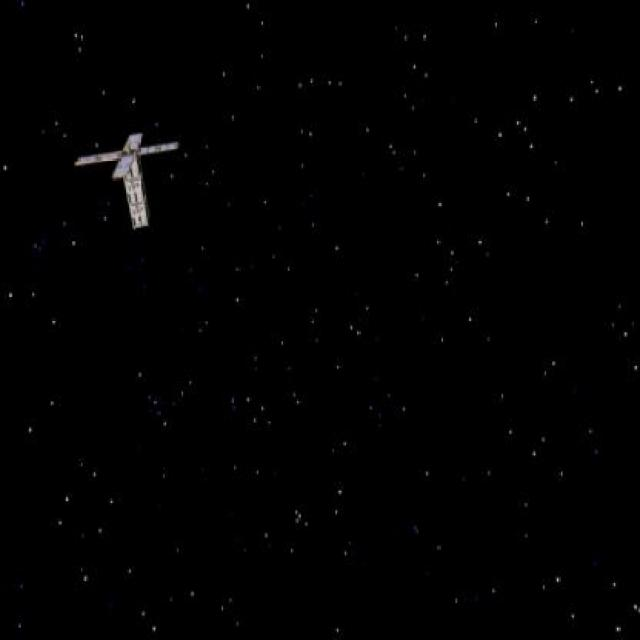medium_debris: (81, 125, 196, 233)
